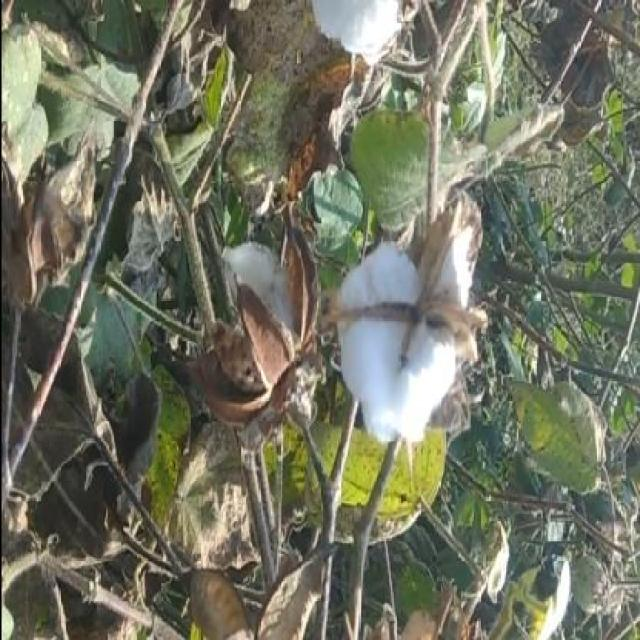cotton_ready: (309, 198, 473, 438)
